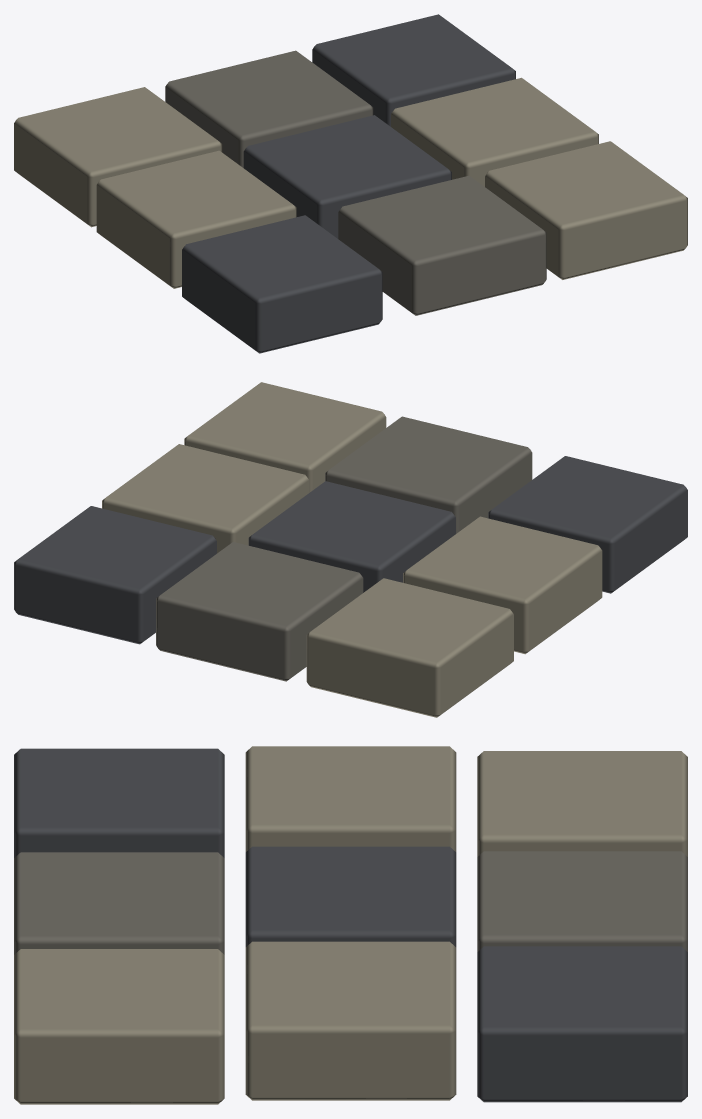
Rendered from village-cobble-a.fd53e2de.glb.
3 views of the same model, one above another, from view 1: azimuth 30°, elevation 25°; view 2: azimuth 150°, elevation 25°; view 3: azimuth 270°, elevation 25° (orthographic). The views are drawn at different scales.
Visible parts, largest first — view 1: body; view 2: body; view 3: body.
Boxes of the visible parts, x1,y1,x2,y2 form: body: (14,14,687,353); body: (14,382,687,717); body: (14,746,687,1104).
Size of the model in its own units: 0.9705 by 0.125 by 0.969.
